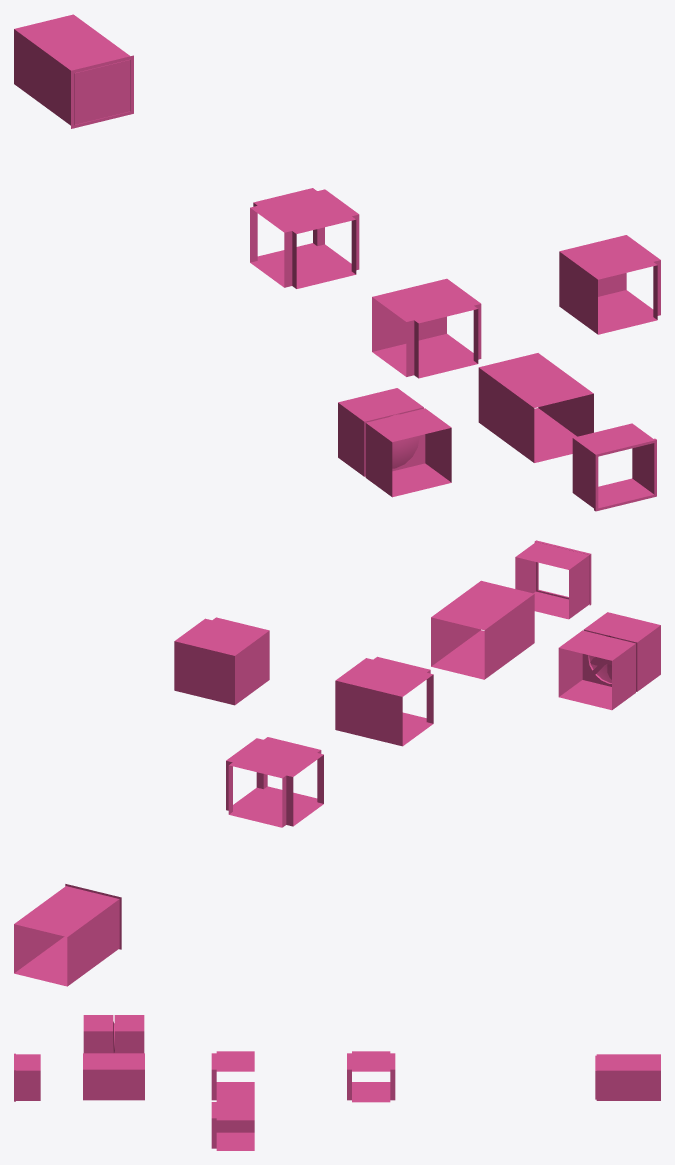
The model's file is TLRVents.fbx.
3 renders of one model, top to bottom at view 1: azimuth 30°, elevation 25°; view 2: azimuth 150°, elevation 25°; view 3: azimuth 270°, elevation 25°, orthographic. The views are drawn at different scales.
Parts seen in each view (by area): view 1: EindeVent, VentilatieVent, RechtVent, TSplitingVent, XSplitingVent, HoekVent, VentInUitGang; view 2: EindeVent, RechtVent, VentilatieVent, HoekVent, TSplitingVent, XSplitingVent, VentInUitGang; view 3: EindeVent, RechtVent, VentilatieVent, HoekVent, XSplitingVent, TSplitingVent, VentInUitGang.
Boxes of the visible parts, x1,y1,x2,y2 form: EindeVent: [14, 14, 133, 128]; VentilatieVent: [338, 388, 451, 497]; RechtVent: [478, 353, 593, 462]; TSplitingVent: [372, 278, 481, 378]; XSplitingVent: [250, 188, 359, 288]; HoekVent: [559, 235, 660, 334]; VentInUitGang: [572, 423, 656, 511]; EindeVent: [14, 884, 121, 986]; RechtVent: [431, 580, 534, 679]; VentilatieVent: [558, 612, 660, 710]; HoekVent: [174, 617, 269, 705]; TSplitingVent: [335, 656, 433, 746]; XSplitingVent: [226, 737, 323, 827]; VentInUitGang: [515, 540, 591, 619]; EindeVent: [595, 1054, 660, 1100]; RechtVent: [83, 1053, 144, 1100]; VentilatieVent: [83, 1015, 144, 1053]; HoekVent: [211, 1102, 254, 1150]; XSplitingVent: [347, 1051, 395, 1102]; TSplitingVent: [211, 1051, 254, 1101]; VentInUitGang: [14, 1053, 40, 1101].
Bounding box in the file's own units: 483 × 70.12 × 1254.
